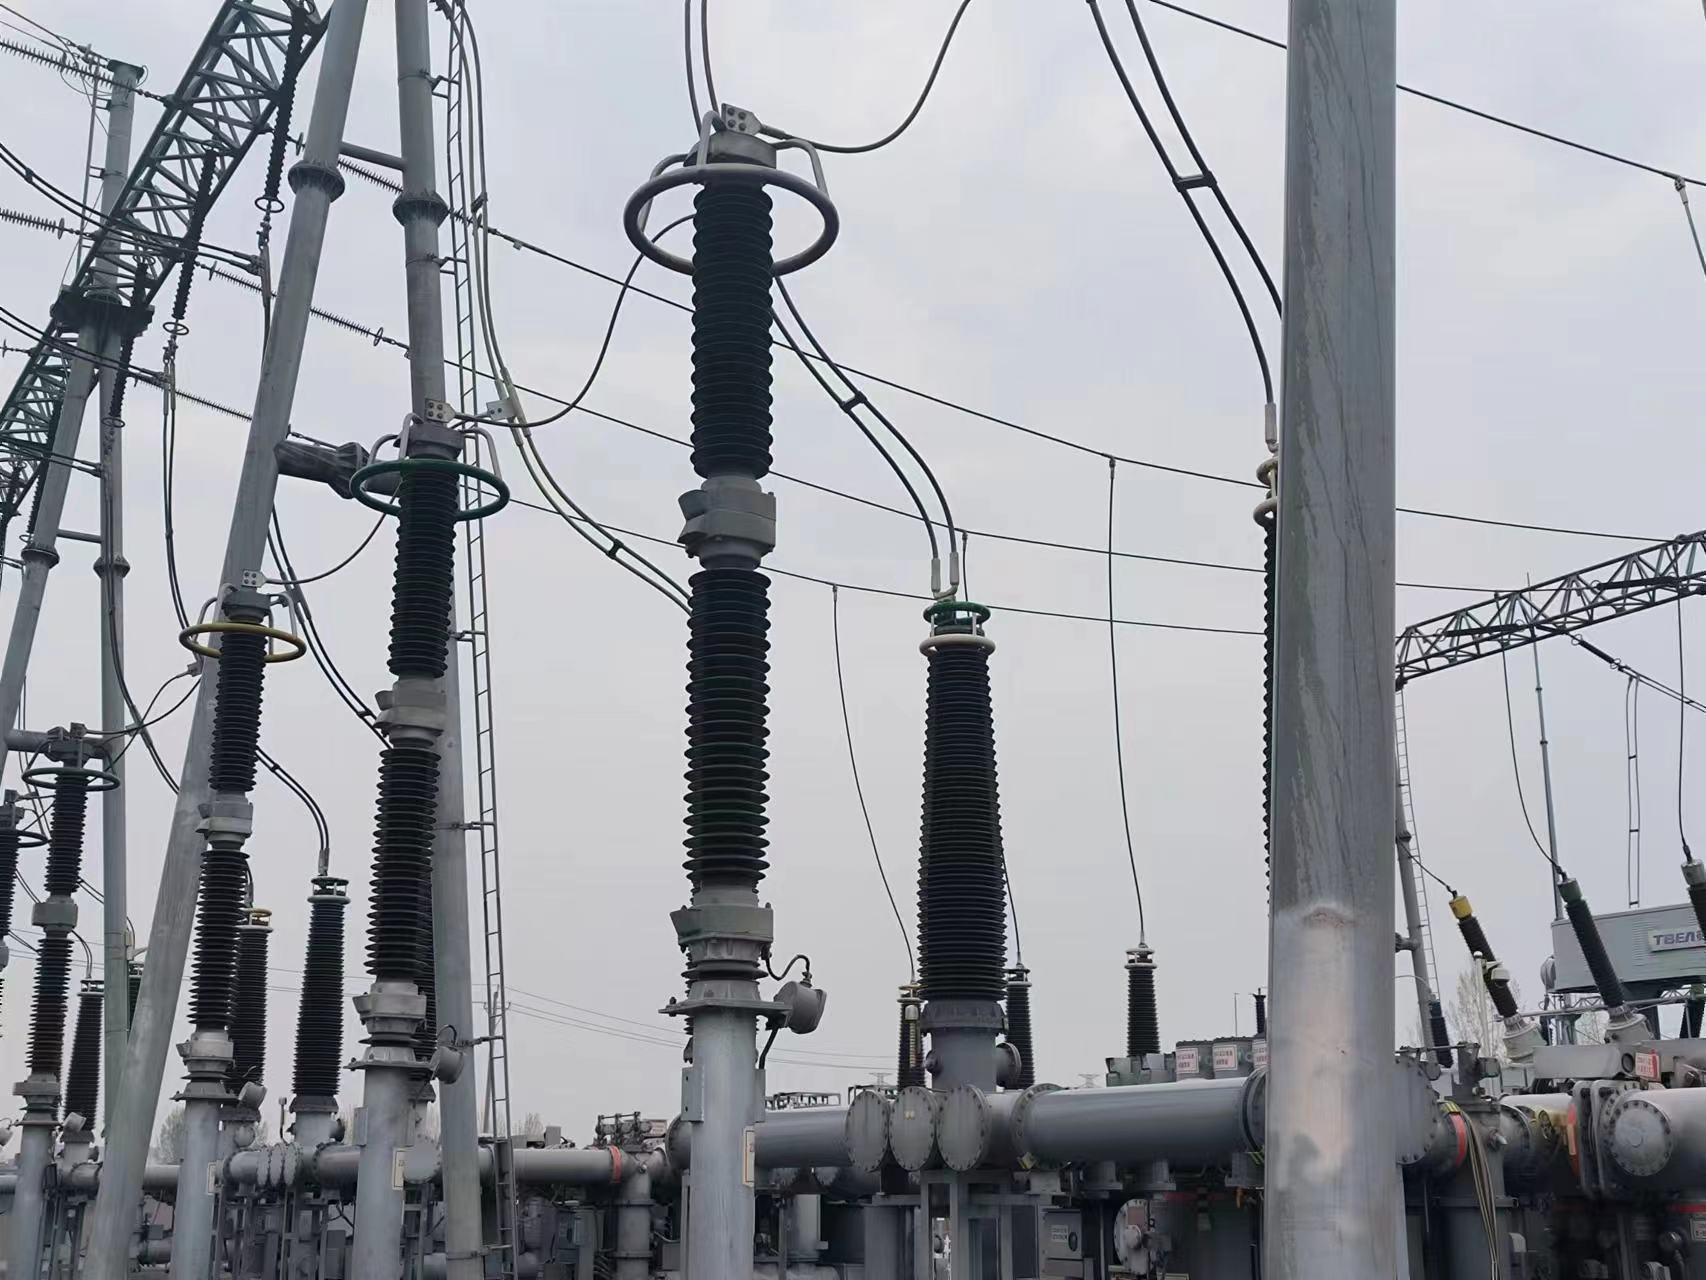Arrester: (621, 117, 844, 943), (347, 419, 511, 986), (175, 588, 311, 1059)
Voltage transformer: (907, 597, 1012, 1008)
